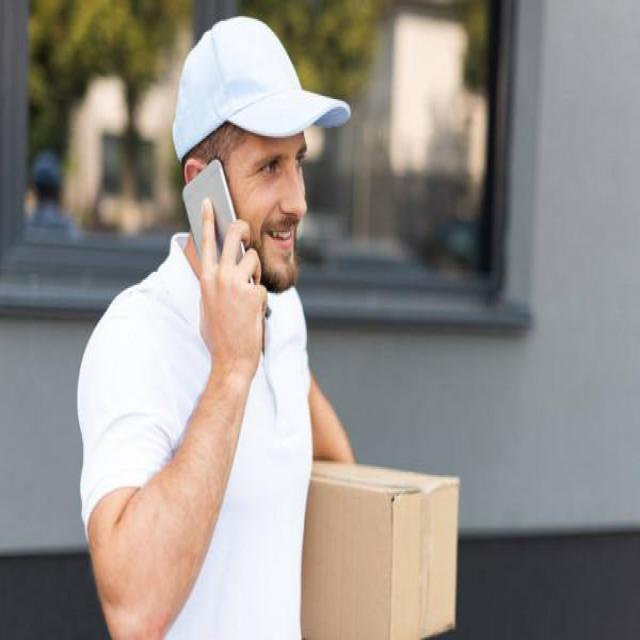box: (300, 459, 456, 640)
